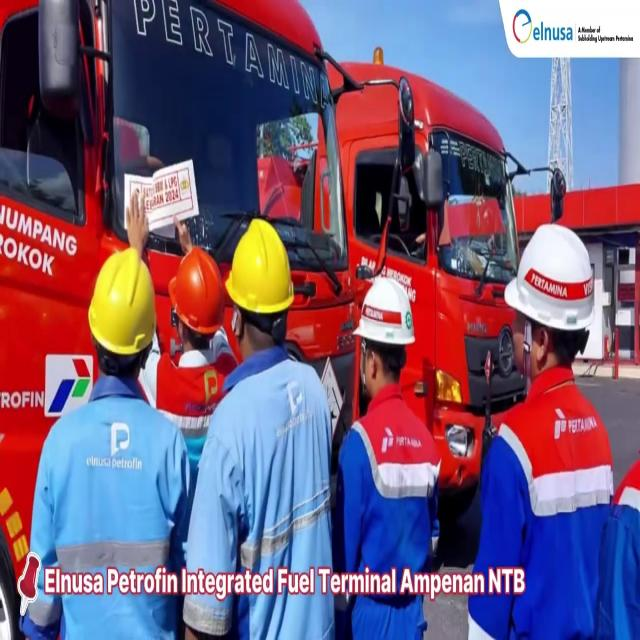Hardhat: (501, 225, 600, 332), (85, 249, 157, 355), (225, 219, 294, 313), (169, 250, 223, 333), (352, 279, 417, 343)
No Glove: (126, 194, 148, 245), (173, 213, 196, 246)
Overall Suit: (468, 364, 606, 640), (331, 384, 439, 640), (596, 450, 640, 640)
Strapped: (522, 316, 532, 384), (359, 335, 367, 382)
